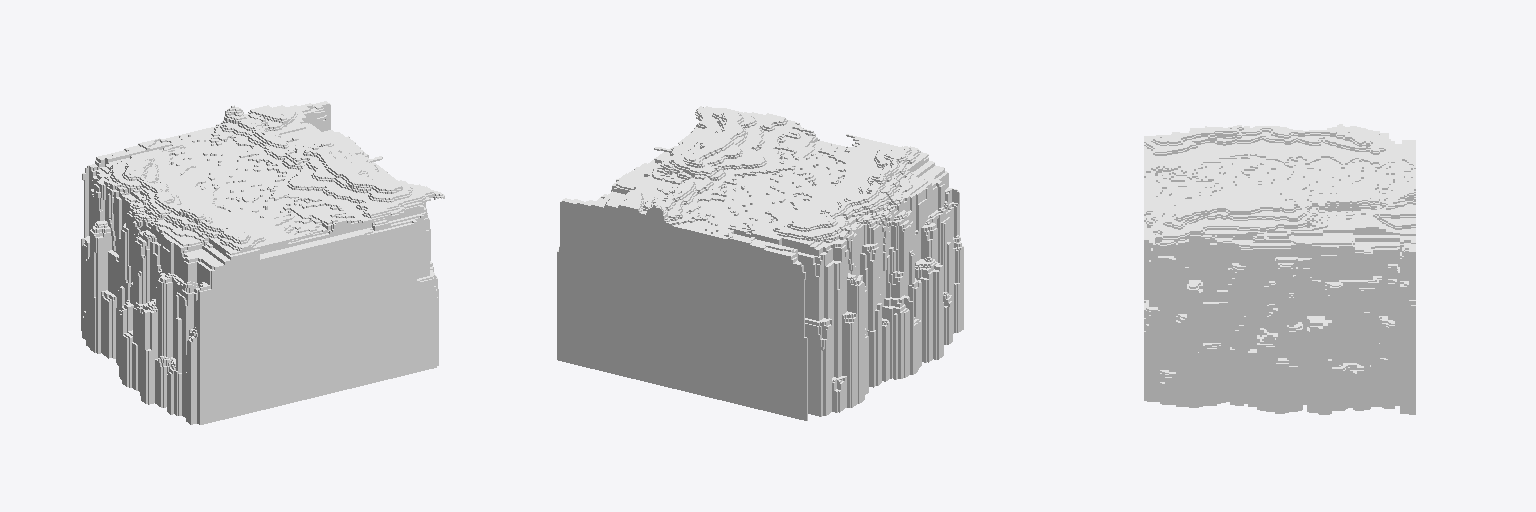
File: Cubeland-30.obj
3 views of the same model, side by side, from view 1: azimuth 30°, elevation 25°; view 2: azimuth 150°, elevation 25°; view 3: azimuth 270°, elevation 25° (orthographic).
Visible parts, largest first — view 1: object 1; view 2: object 1; view 3: object 1.
Part boxes in pixels (x1,y1,x2,y2): object 1: (81, 101, 444, 424); object 1: (557, 106, 963, 420); object 1: (1144, 124, 1415, 414).
Size of the model in its own units: 18.4 by 11 by 15.2.